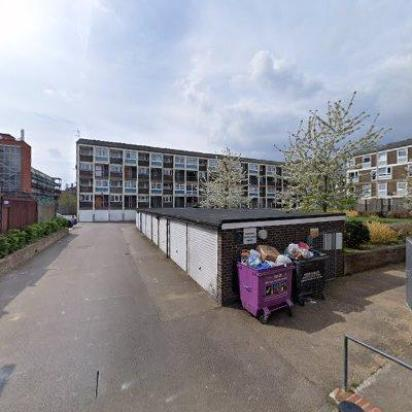stationary-car-offstreet: (56, 212, 74, 228)
